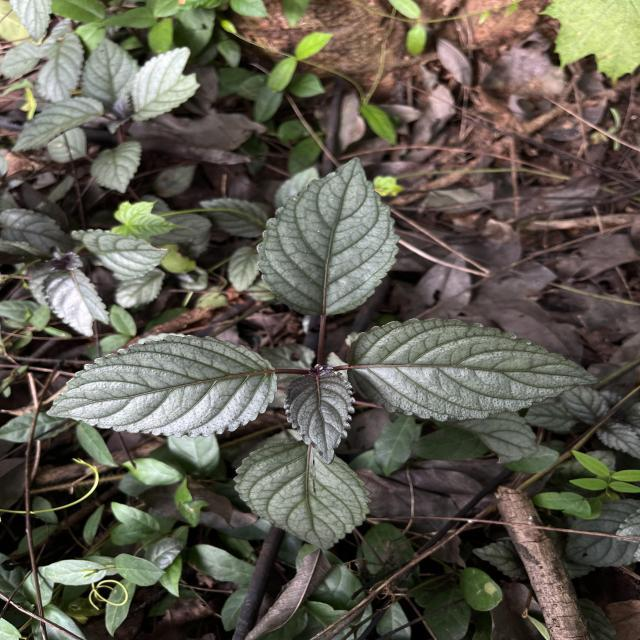Hemigraphis colorata: (341, 314, 604, 424), (42, 332, 282, 440), (254, 154, 403, 322), (230, 439, 374, 551), (280, 366, 360, 466)
